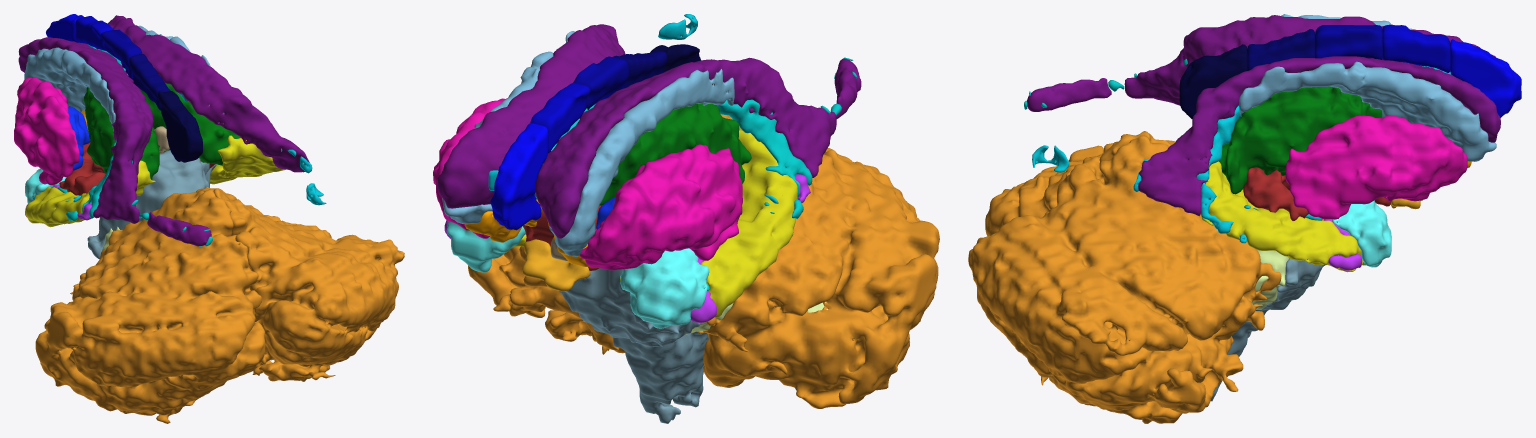
File: structures.glb
3 renders of one model, left to right at view 1: azimuth 30°, elevation 25°; view 2: azimuth 150°, elevation 25°; view 3: azimuth 270°, elevation 25°, orthographic. The views are drawn at different scales.
Parts seen in each view (by area): view 1: aseg:left:8, aseg:right:47, aseg:left:4, aseg:right:43, aseg:left:12, aseg:left:11, aseg:midline:16, aseg:left:10, aseg:left:17, aseg:midline:251, aseg:right:53, aseg:right:49 (+9 smaller); view 2: aseg:left:8, aseg:left:4, aseg:left:12, aseg:midline:16, aseg:right:43, aseg:left:17, aseg:left:11, aseg:right:47, aseg:left:10, aseg:left:18, aseg:midline:255, aseg:left:31 (+12 smaller); view 3: aseg:right:47, aseg:right:51, aseg:right:43, aseg:right:50, aseg:right:49, aseg:left:4, aseg:right:53, aseg:left:8, aseg:midline:255, aseg:midline:254, aseg:midline:251, aseg:right:63 (+7 smaller).
Boxes of the visible parts, <box> form: aseg:left:8: <box>35,189,265,423</box>; aseg:right:47: <box>196,187,404,381</box>; aseg:left:4: <box>18,37,211,246</box>; aseg:right:43: <box>96,15,309,172</box>; aseg:left:12: <box>14,77,79,185</box>; aseg:left:11: <box>24,47,115,131</box>; aseg:midline:16: <box>87,150,216,259</box>; aseg:left:10: <box>84,87,159,179</box>; aseg:left:17: <box>25,160,155,227</box>; aseg:midline:251: <box>158,91,202,162</box>; aseg:right:53: <box>210,135,286,184</box>; aseg:right:49: <box>139,83,240,165</box>; aseg:left:8: <box>698,114,939,408</box>; aseg:left:4: <box>535,57,861,238</box>; aseg:left:12: <box>580,144,742,270</box>; aseg:midline:16: <box>559,268,709,423</box>; aseg:right:43: <box>437,24,625,208</box>; aseg:left:17: <box>620,130,797,321</box>; aseg:left:11: <box>549,69,734,256</box>; aseg:right:47: <box>468,246,624,354</box>; aseg:left:10: <box>599,103,751,205</box>; aseg:left:18: <box>620,248,709,328</box>; aseg:midline:255: <box>490,123,548,230</box>; aseg:left:31: <box>534,57,857,290</box>; aseg:right:47: <box>968,135,1281,423</box>; aseg:right:51: <box>1285,115,1467,219</box>; aseg:right:43: <box>1138,56,1500,216</box>; aseg:right:50: <box>1239,61,1496,161</box>; aseg:right:49: <box>1219,86,1382,194</box>; aseg:left:4: <box>1026,15,1495,111</box>; aseg:right:53: <box>1201,161,1365,272</box>; aseg:left:8: <box>985,131,1175,236</box>; aseg:midline:255: <box>1450,39,1521,117</box>; aseg:midline:254: <box>1382,25,1450,72</box>; aseg:midline:251: <box>1179,44,1247,119</box>; aseg:right:63: <box>1032,71,1446,265</box>.
Bounding box in the file's own units: 0.106 × 0.0968 × 0.131.
